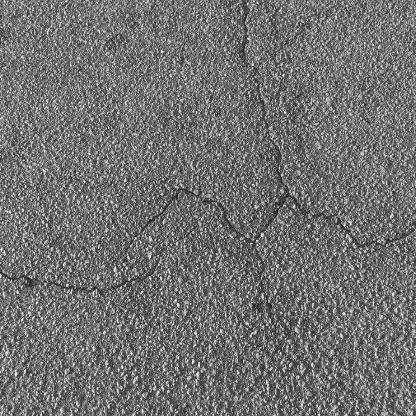Cracks: (122, 0, 416, 340), (0, 250, 167, 299)
